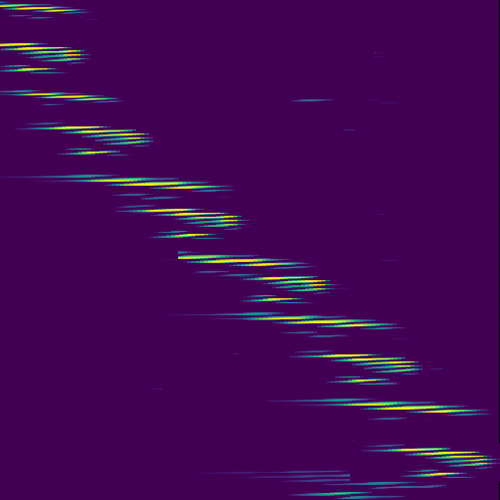semblance: (36, 120, 150, 157), (386, 444, 495, 479), (132, 205, 243, 238), (1, 38, 94, 75), (315, 351, 422, 383), (75, 174, 222, 195), (332, 398, 483, 416), (244, 313, 388, 330), (247, 274, 330, 303), (176, 251, 300, 268), (9, 87, 113, 103), (1, 2, 87, 16)
